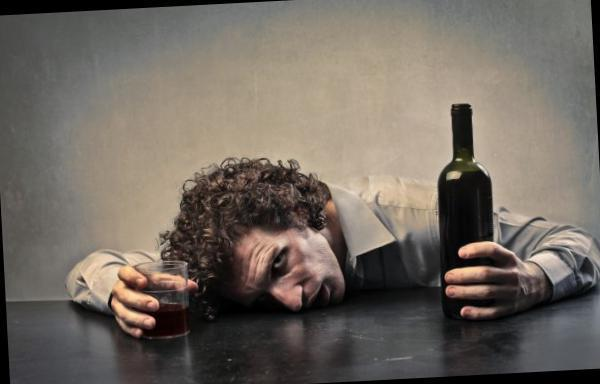Drunk: (226, 234, 341, 313)
